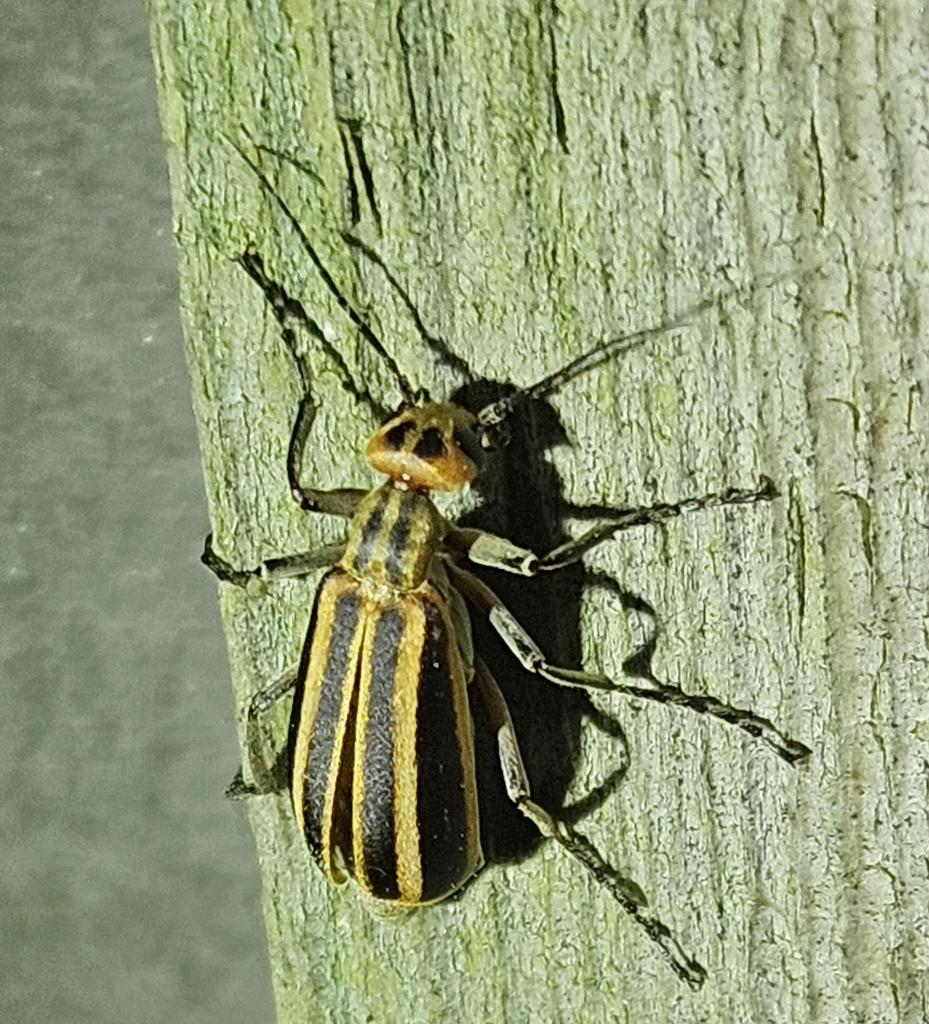blister_beetle: (110, 76, 833, 1024)
